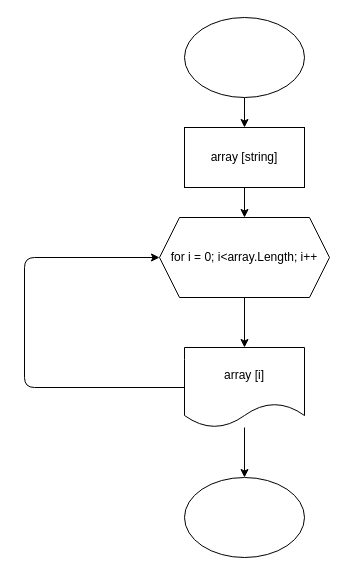
The diagram is 347 pixels wide and 575 high, and some of its shapes have lost their labels. The centre of each missing label's shape, as x and y in pixels:
"BEGIN" goes at pixel 244 57.
"END" goes at pixel 244 517.
